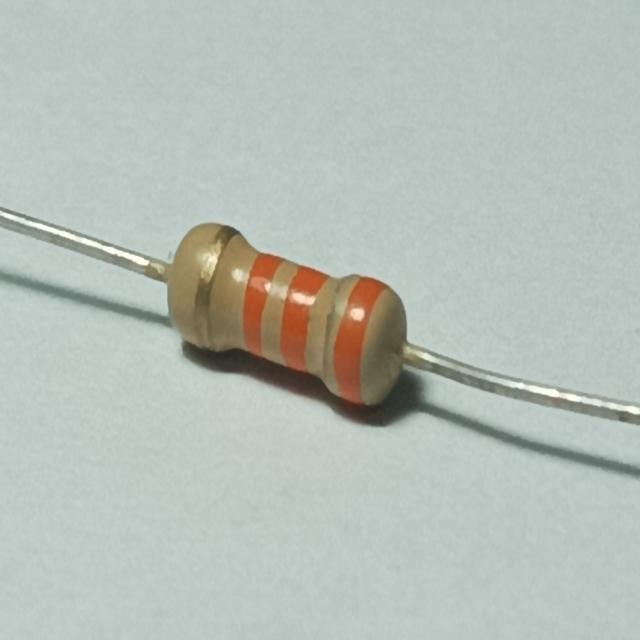33k ohms: (160, 211, 420, 423)
